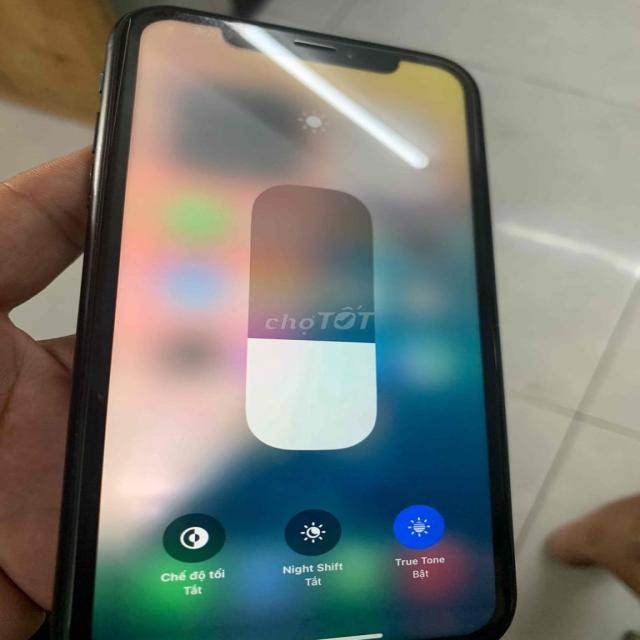gen_x_xs: (52, 8, 515, 639)
